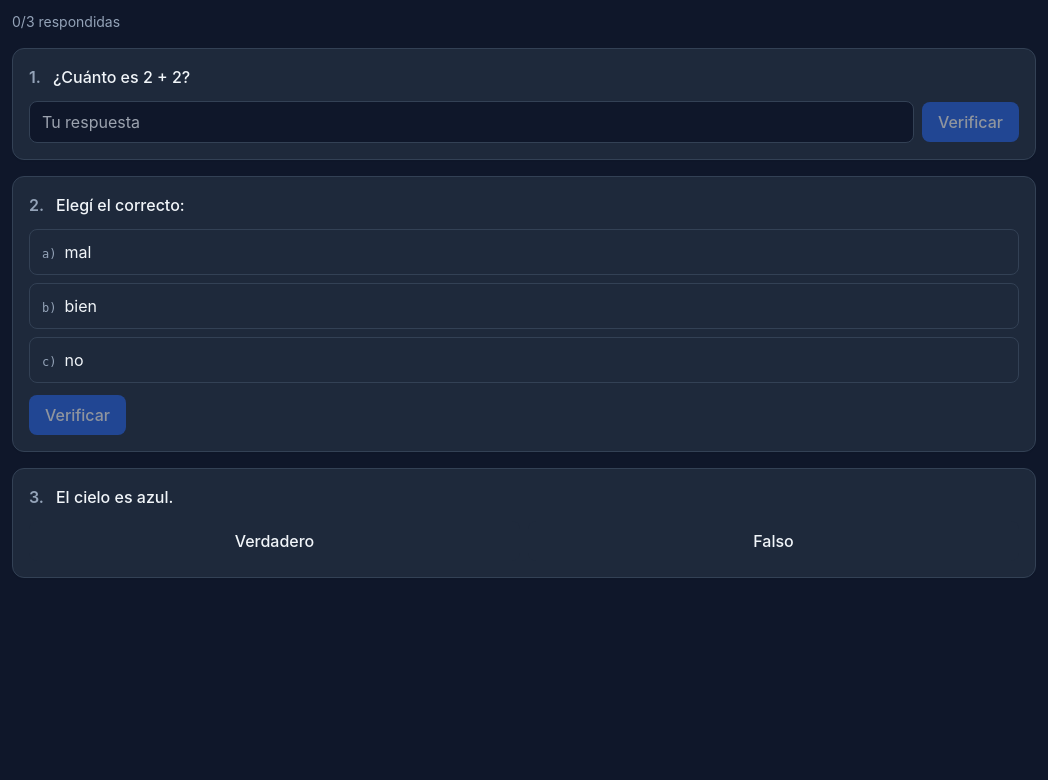
it: QuizRunner › marca correcta una respuesta numérica acertada
Type "4" into the field named "Respuesta a la pregunta 1" at {"x": 472, "y": 122}, box [29, 101, 914, 143]
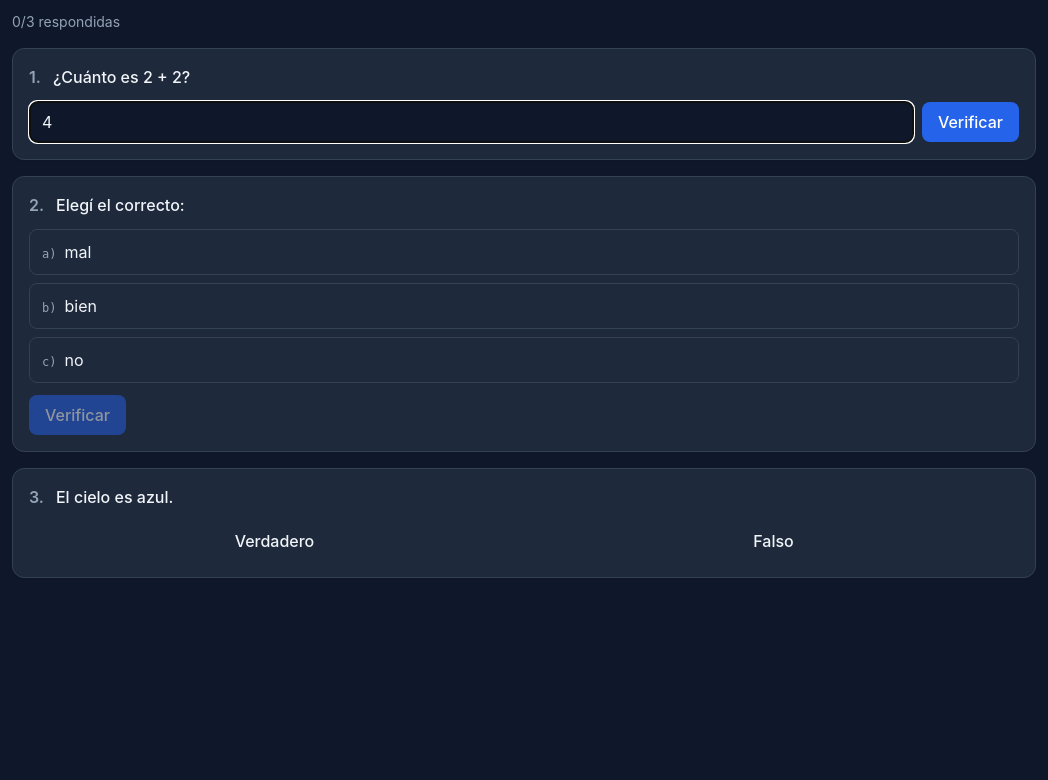
Click the 1st button "Verificar" at {"x": 970, "y": 122}, box [922, 102, 1019, 142]
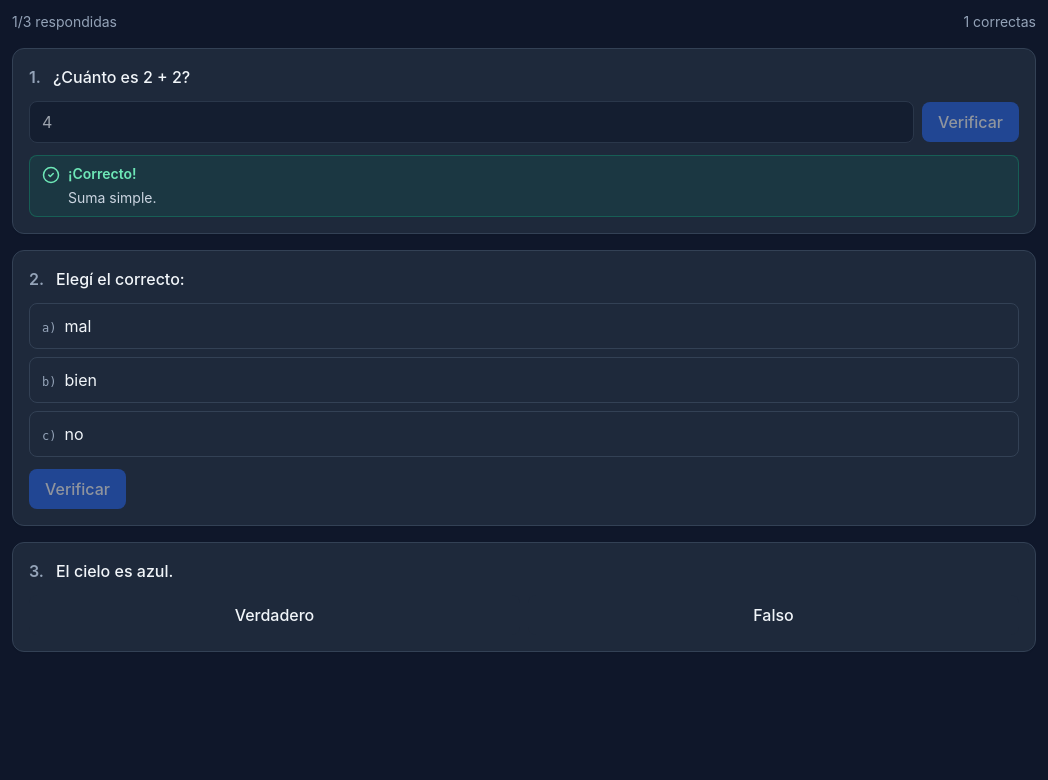
Expected: the text "¡Correcto!" is shown, [68, 165, 136, 182]
